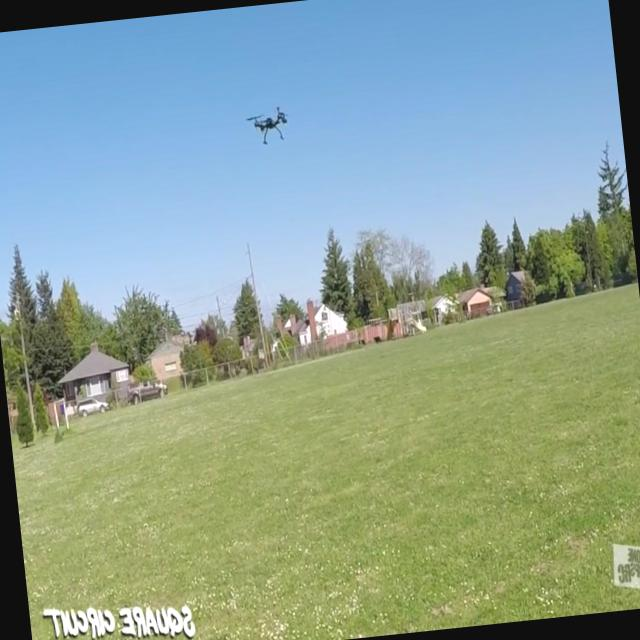drone: (245, 104, 292, 149)
